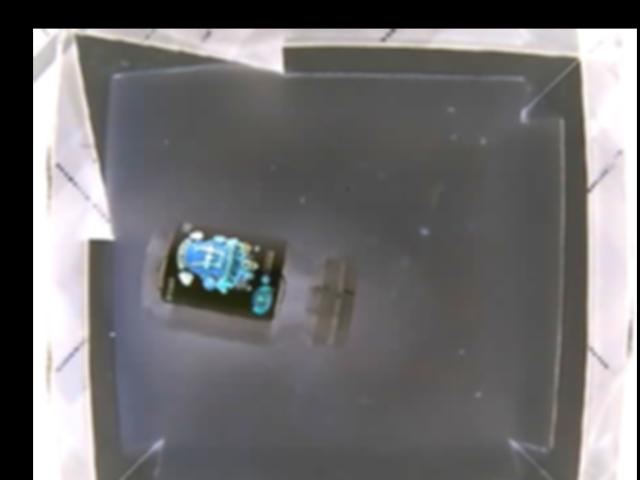Bottle: (138, 211, 356, 350)
